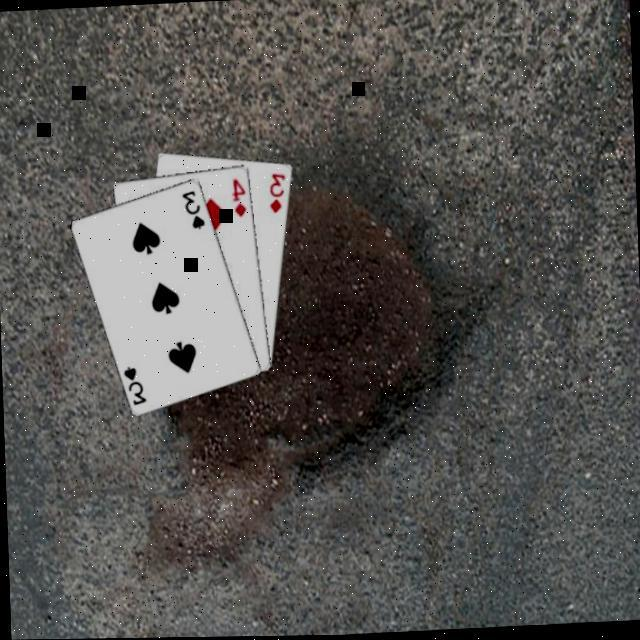3D: (264, 171, 288, 218)
3S: (177, 188, 207, 234), (120, 364, 148, 409)
4D: (228, 177, 249, 222)
